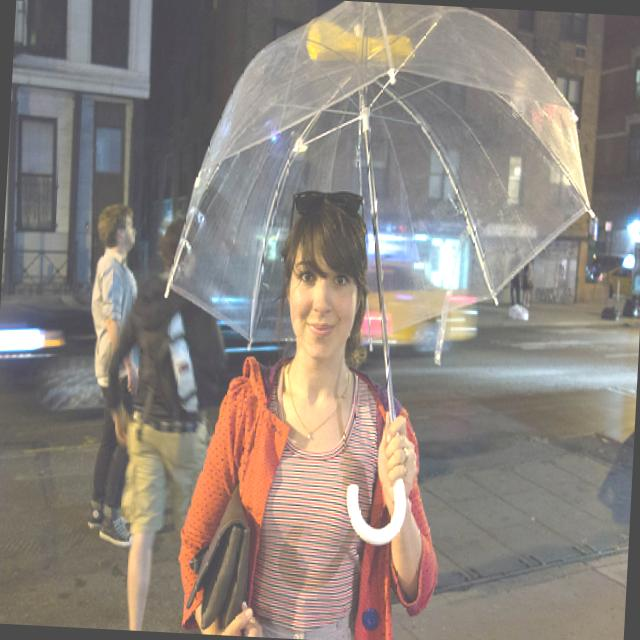Vehicle: (377, 254, 482, 353), (598, 266, 634, 298)
